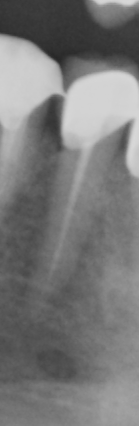fracture: (0, 187, 6, 237)
